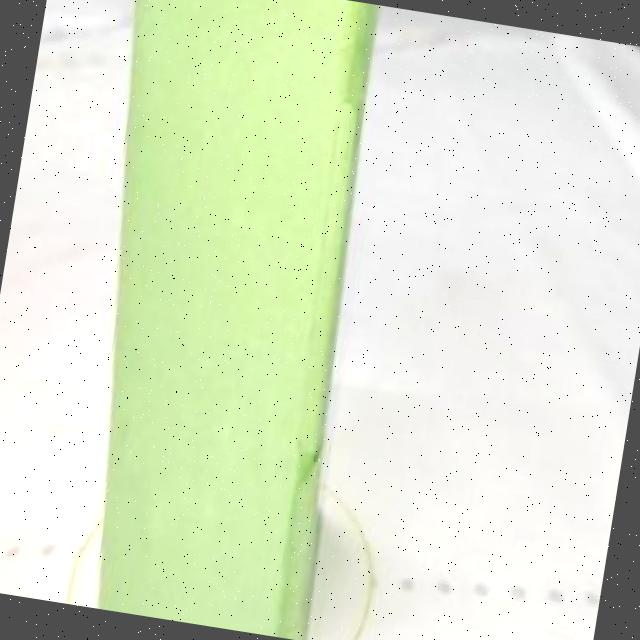greenbox: (32, 0, 403, 640)
